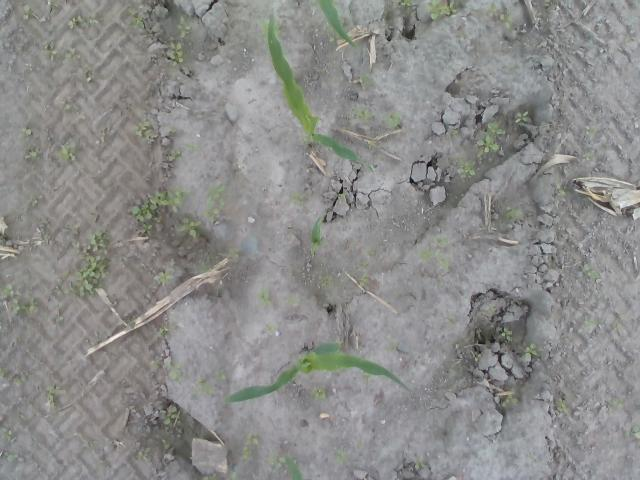Maize: (265, 12, 378, 177), (224, 342, 415, 404), (304, 0, 360, 49), (310, 215, 322, 256), (286, 455, 305, 480)
Weeds: (126, 182, 227, 240), (74, 223, 110, 296), (416, 235, 450, 271), (476, 120, 506, 158), (488, 1, 514, 30), (423, 0, 457, 22), (130, 118, 158, 144), (159, 404, 182, 432), (240, 432, 260, 464), (264, 450, 290, 471), (66, 14, 98, 30), (353, 260, 370, 288), (58, 141, 80, 162), (167, 360, 186, 384), (191, 377, 216, 395), (349, 104, 374, 122), (176, 14, 192, 40), (167, 40, 184, 64), (504, 204, 524, 223), (457, 158, 476, 178), (623, 420, 640, 441), (383, 110, 402, 128), (46, 383, 59, 409), (524, 342, 542, 360), (10, 302, 33, 316), (256, 288, 273, 306), (196, 255, 212, 274), (136, 446, 152, 464), (56, 97, 74, 113), (207, 471, 239, 480), (326, 24, 341, 43), (126, 16, 146, 30), (24, 144, 41, 160), (583, 264, 600, 280), (335, 446, 348, 466), (312, 385, 328, 401), (289, 190, 304, 207), (44, 42, 56, 62), (501, 394, 518, 408), (81, 62, 92, 83), (0, 284, 15, 299), (319, 274, 335, 288), (64, 47, 80, 61), (514, 110, 530, 124), (4, 449, 18, 464), (0, 425, 14, 440), (159, 269, 175, 282), (264, 322, 278, 336), (167, 148, 181, 162), (606, 398, 625, 408), (227, 246, 241, 259), (214, 368, 226, 382), (21, 126, 35, 138), (393, 0, 413, 8), (149, 358, 162, 370), (502, 327, 514, 340), (470, 350, 482, 362), (23, 5, 32, 20), (187, 142, 200, 152), (161, 438, 171, 450), (447, 314, 457, 326), (556, 184, 566, 196), (556, 400, 566, 412), (15, 375, 25, 385), (582, 151, 592, 161), (414, 461, 425, 470), (584, 126, 596, 134), (159, 327, 168, 337), (288, 296, 298, 305), (368, 247, 378, 256), (0, 366, 7, 378), (584, 319, 593, 327), (31, 200, 38, 206)
